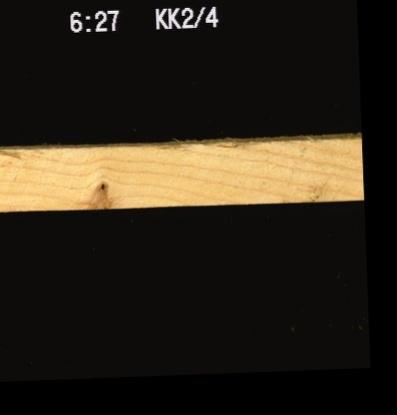small_knot: (98, 179, 105, 190)
split: (217, 141, 241, 146)
